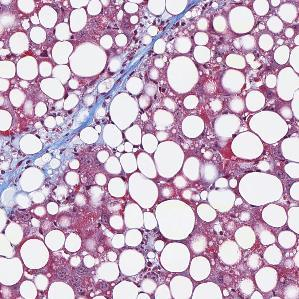fibrosis: (11, 122, 93, 177)
